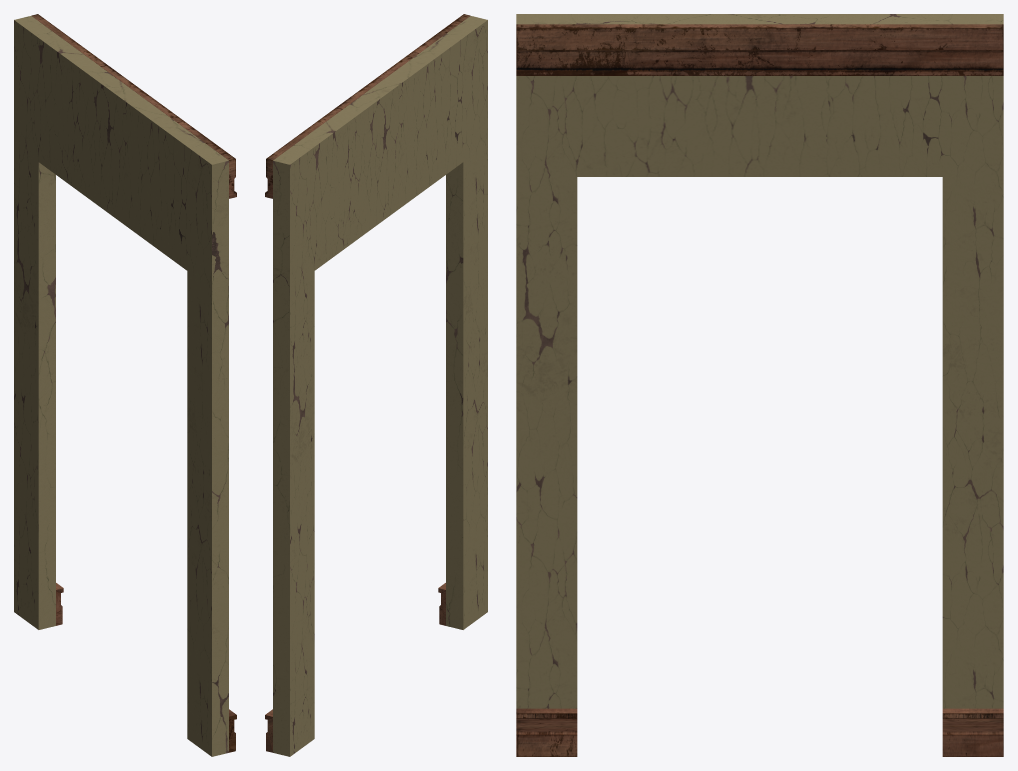
The model's file is Wall_2m_Doorway_A2.fbx.
The picture shows the model from 3 angles, left to right: view 1: azimuth 30°, elevation 25°; view 2: azimuth 150°, elevation 25°; view 3: azimuth 270°, elevation 25°; orthographic projection. The views are drawn at different scales.
Visible parts, largest first — view 1: Wall_2m_Doorway_A.004; view 2: Wall_2m_Doorway_A.004; view 3: Wall_2m_Doorway_A.004.
Boxes of the visible parts, x1,y1,x2,y2 form: Wall_2m_Doorway_A.004: (14, 14, 236, 756); Wall_2m_Doorway_A.004: (265, 14, 487, 756); Wall_2m_Doorway_A.004: (516, 14, 1003, 756).
Bounding box in the file's own units: 0.1458 × 3.3 × 2.
